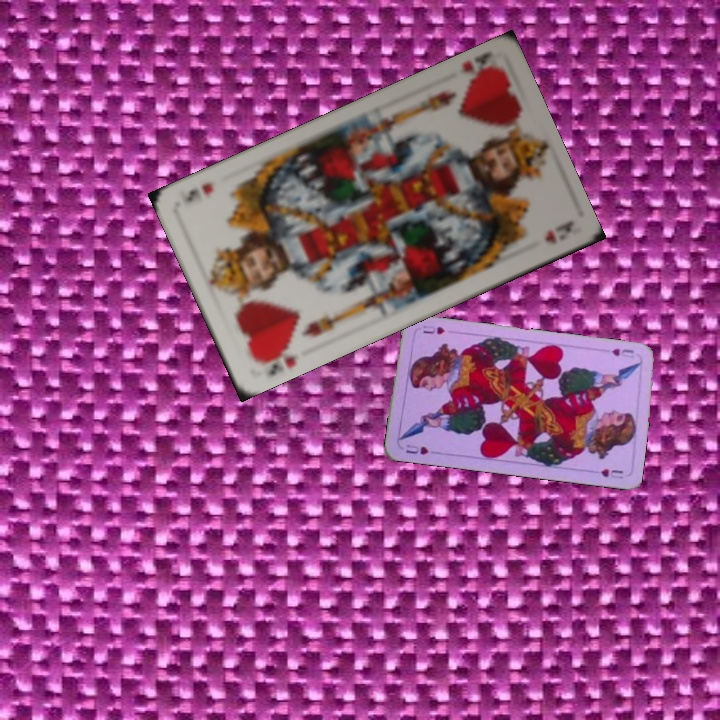HK: (457, 47, 495, 88), (264, 342, 301, 379)
HU: (401, 440, 439, 457), (607, 344, 636, 360)
